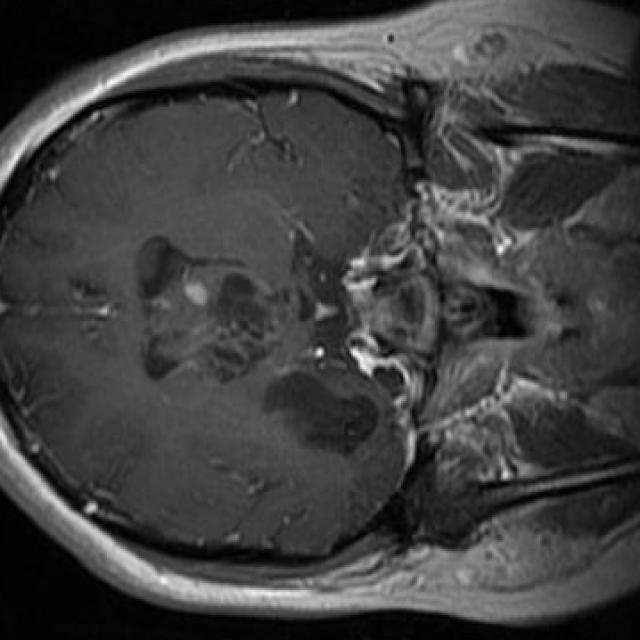glioma: (135, 237, 380, 456)
